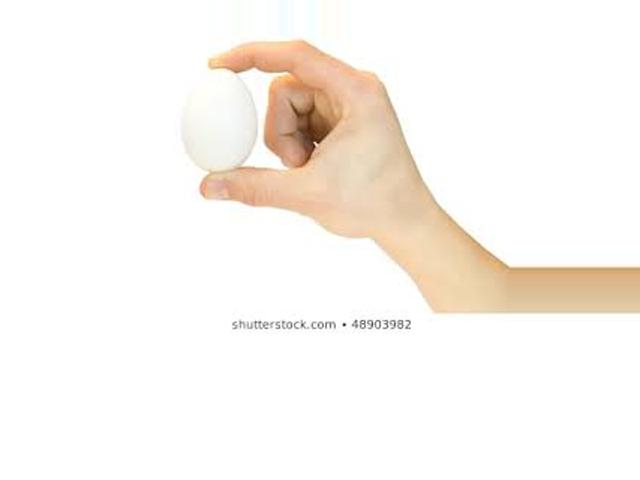egg: (183, 68, 258, 173)
